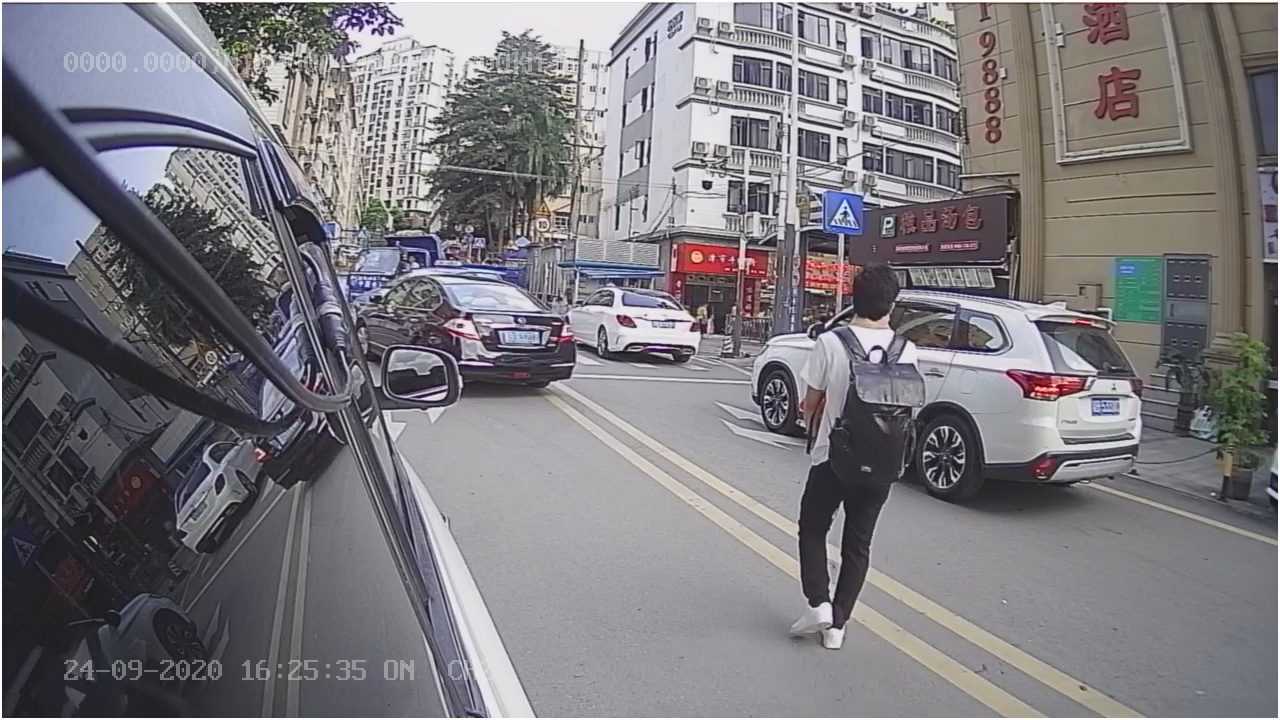person: (767, 263, 946, 661)
